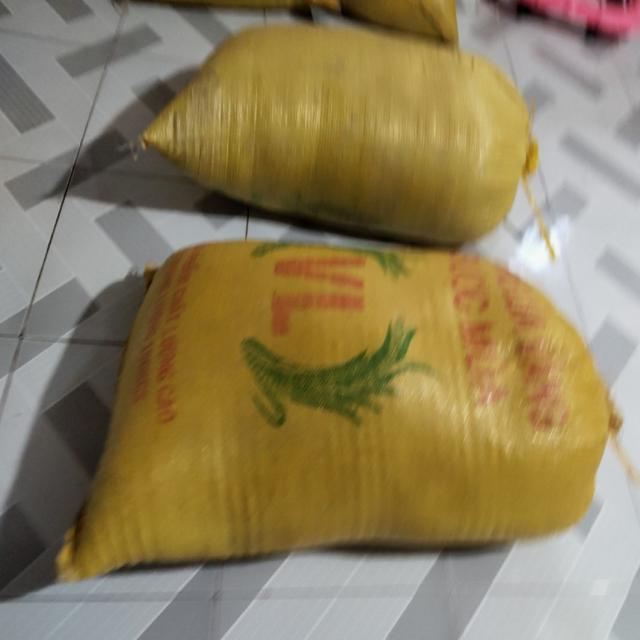gunny_bag: (58, 242, 617, 581), (143, 25, 536, 244)
